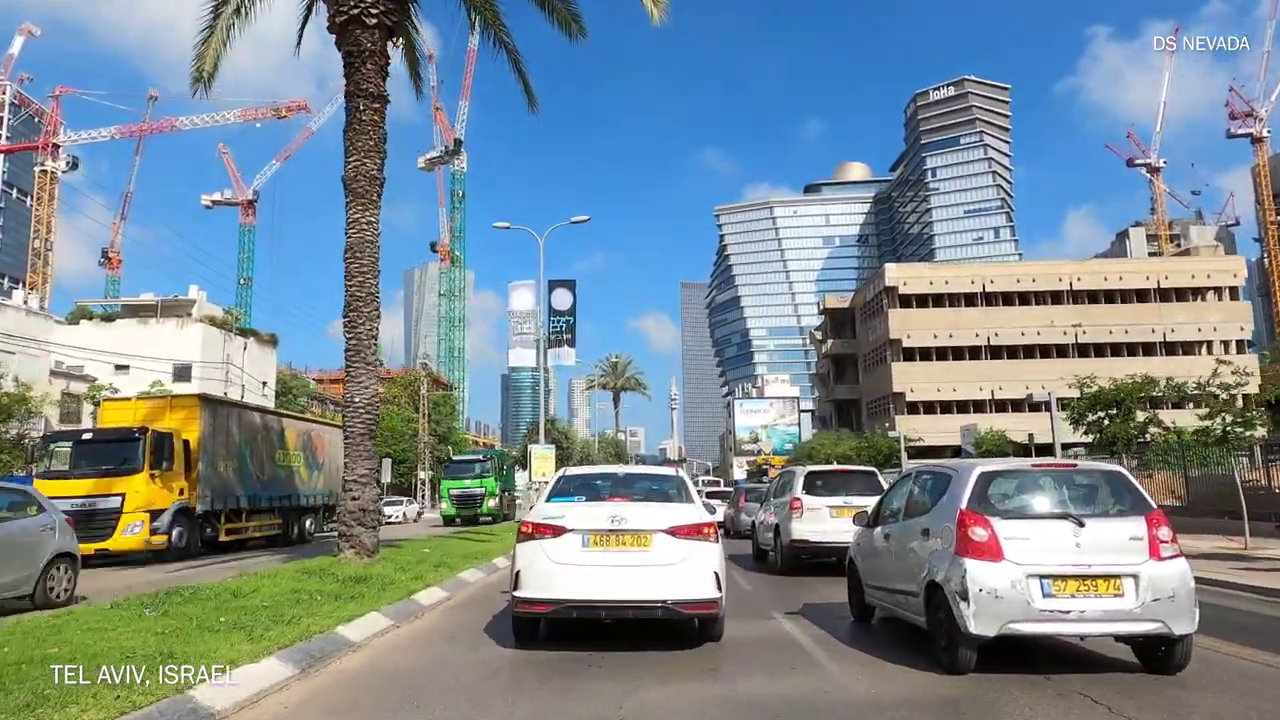licence: (1043, 574, 1122, 598)
